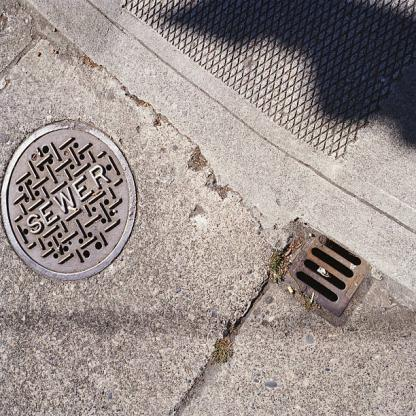manholes: (1, 112, 160, 292)
